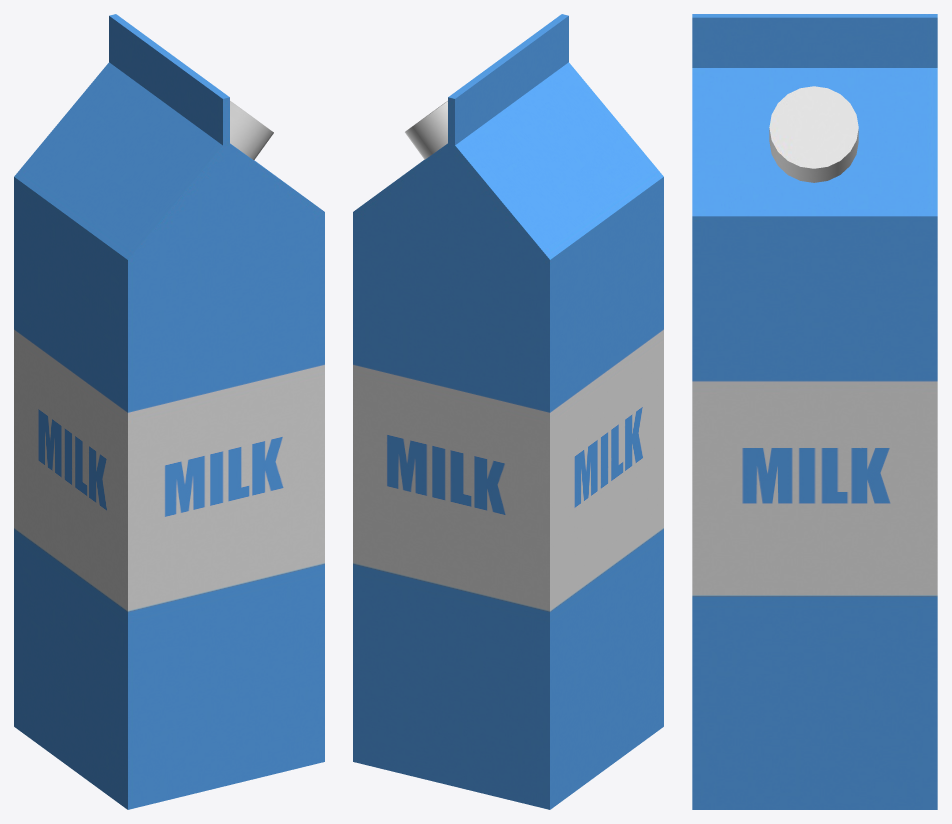
Rendered from Milk.fbx.
3 renders of one model, left to right at view 1: azimuth 30°, elevation 25°; view 2: azimuth 150°, elevation 25°; view 3: azimuth 270°, elevation 25°, orthographic. The views are drawn at different scales.
Visible parts, largest first — view 1: Milk; view 2: Milk; view 3: Milk.
Part boxes in pixels (x1,y1,x2,y2): Milk: (14,14,324,809); Milk: (353,14,663,809); Milk: (692,14,937,809).
Bounding box in the file's own units: 2.36 × 7.88 × 2.36.
Materials: 1 (1 with a texture image).
